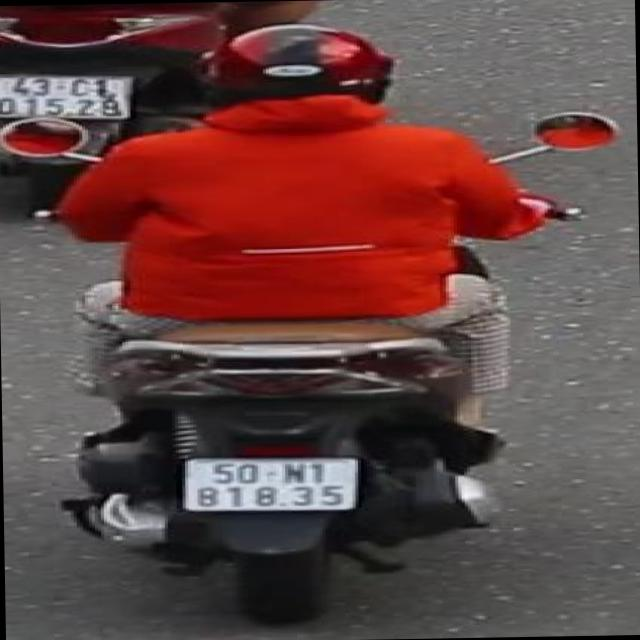LP: (174, 449, 366, 518), (0, 67, 140, 125)
helmet: (197, 18, 396, 112)
